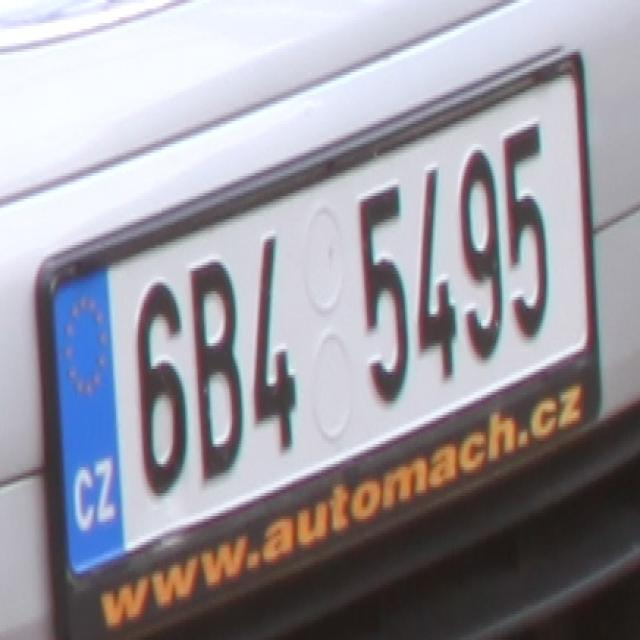4: (251, 230, 301, 452), (412, 147, 458, 386)
5: (352, 176, 408, 427), (502, 115, 555, 349)
6: (130, 268, 190, 496)
9: (458, 153, 505, 369)
B: (189, 262, 244, 488)
